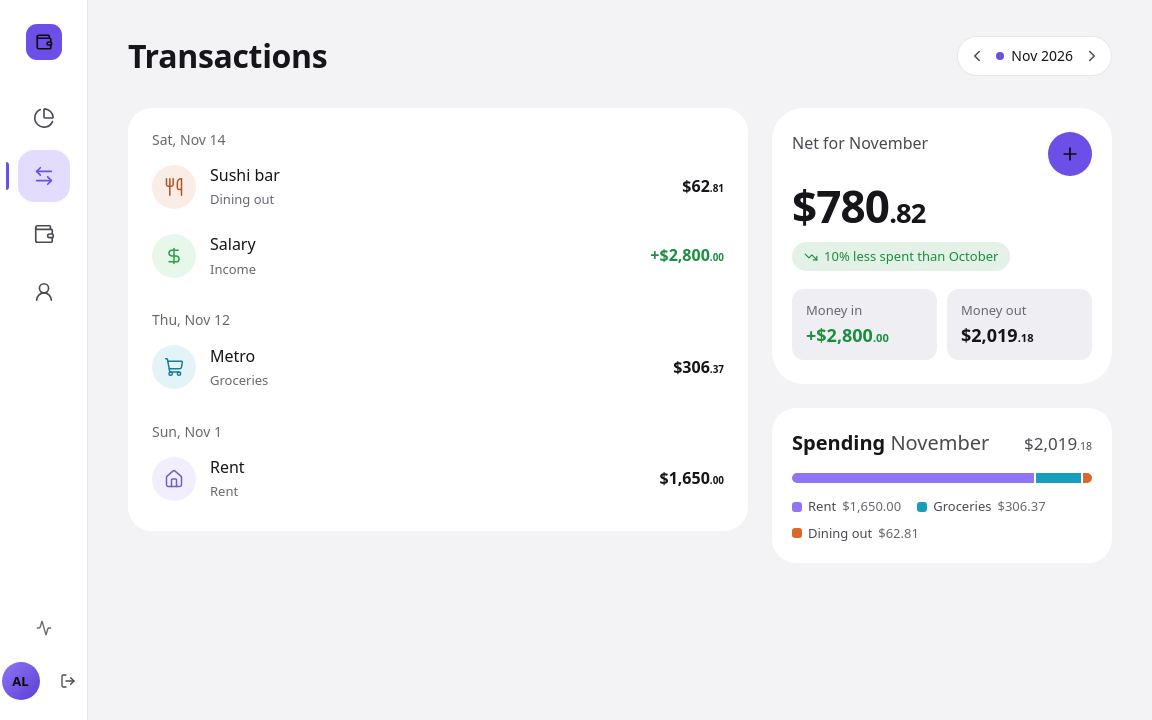
adding an expense sends a negative amount in cents, then shows the new list
expect the element "Net for November" is shown: met, box [772,108,1112,384]
Click the button named "New transaction": point(1070, 154) [1048,132,1092,176]
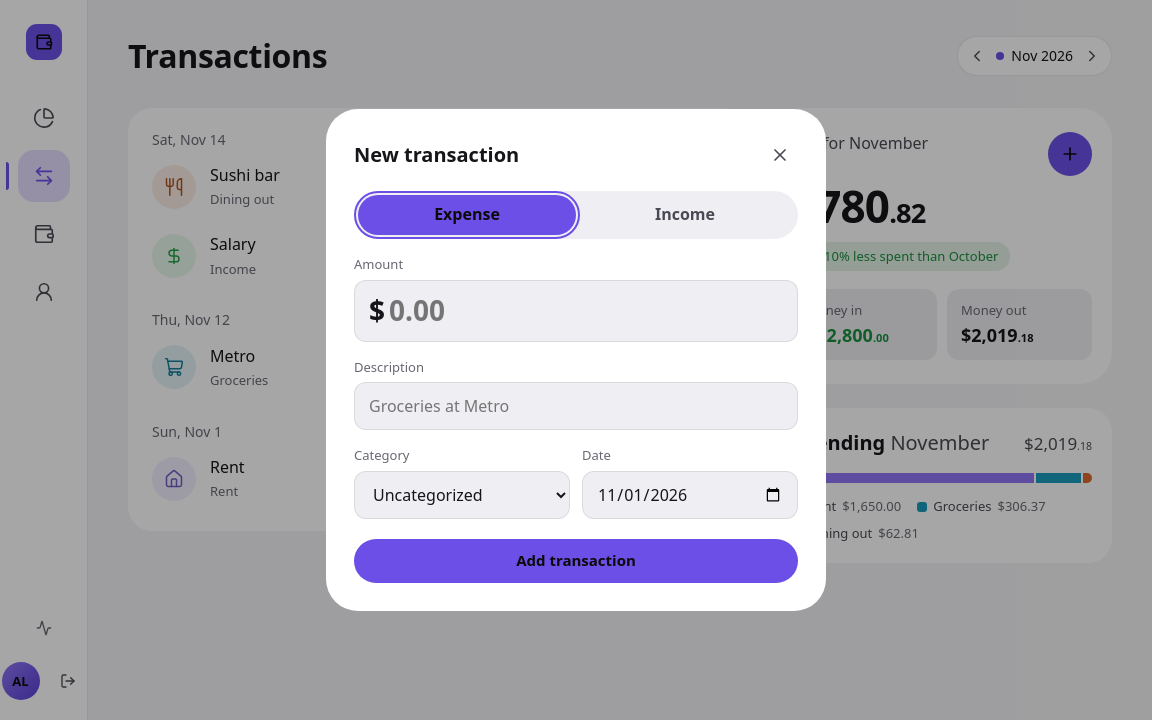
In the field labelled "Amount": point(593, 311) [389,281,797,341], type "12.5"
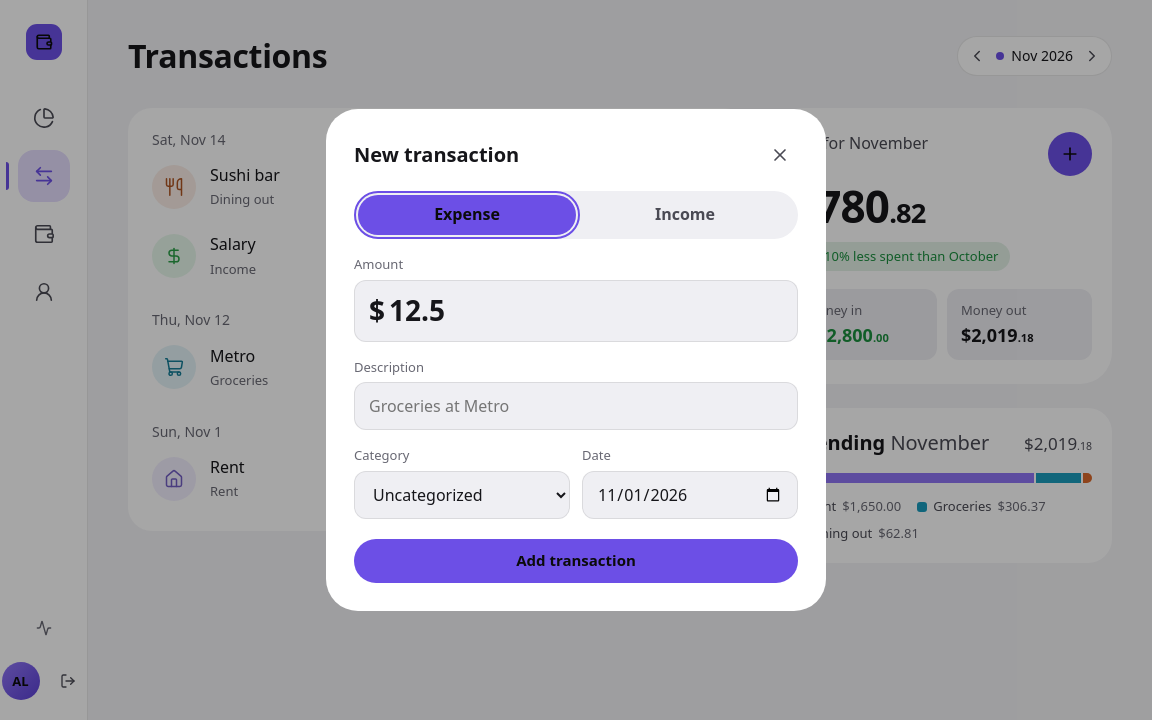
In the field labelled "Description": point(576, 406) [354,382,798,430], type "  Coffee "
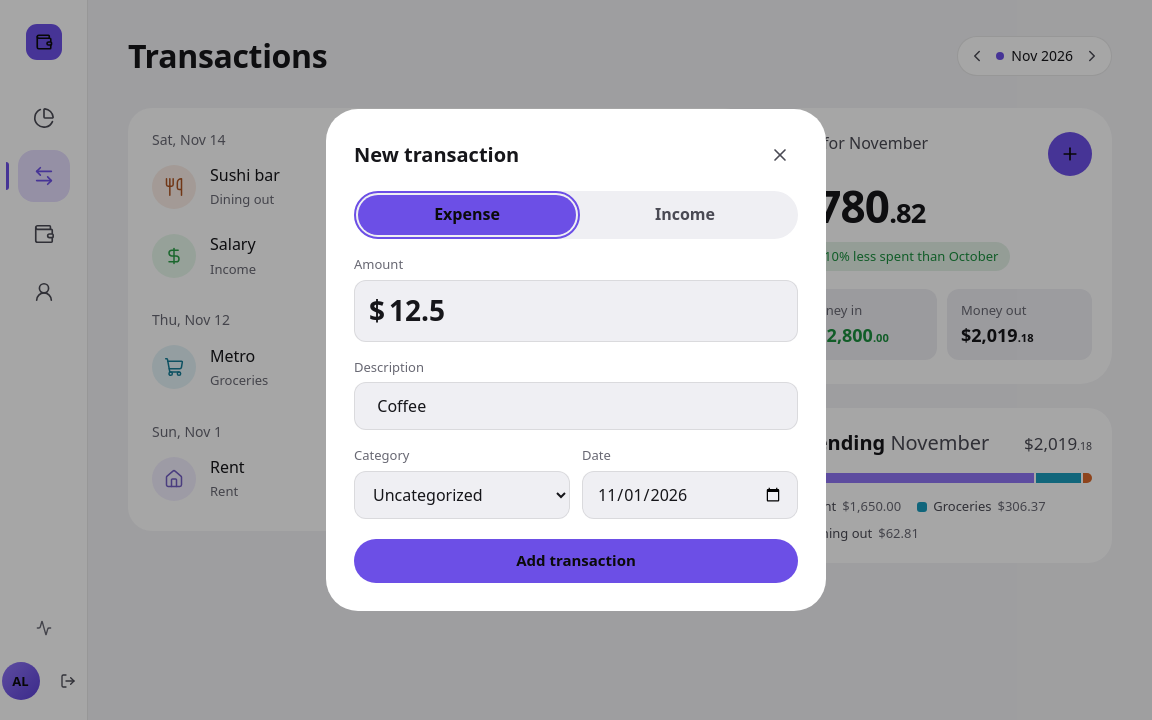
Select "Dining out" in the dropdown labelled "Category": point(462, 495) [354,471,570,519]
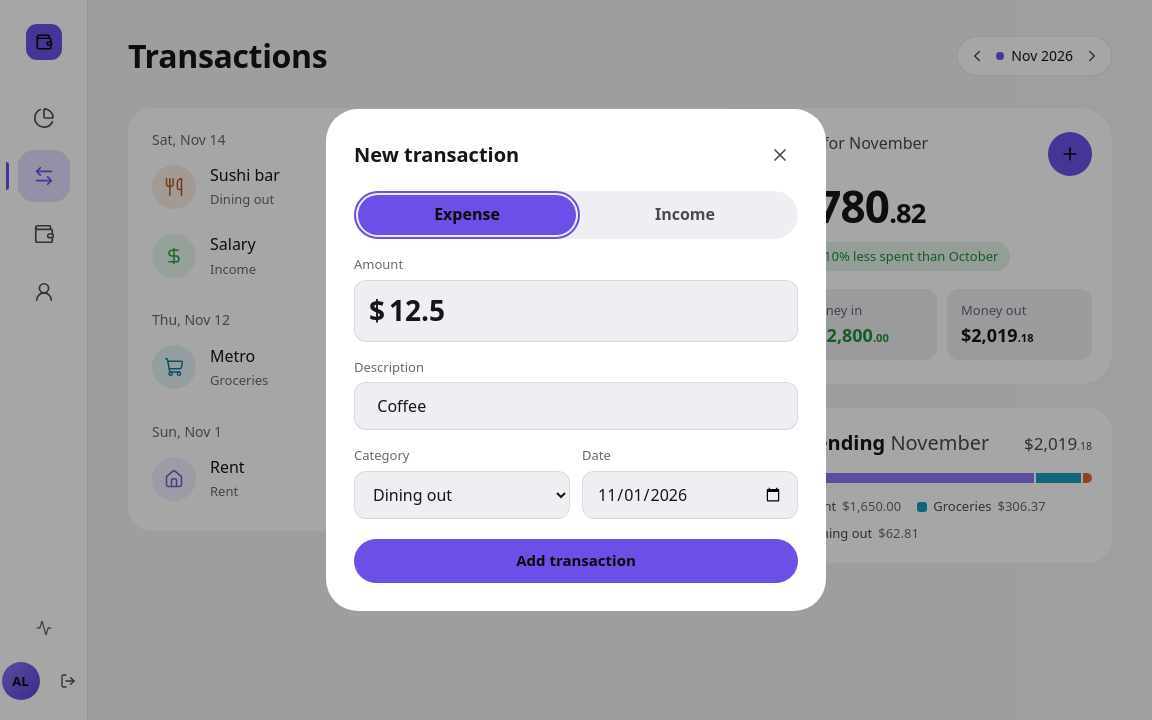
Click the button "Add transaction": point(576, 561) [354,539,798,583]
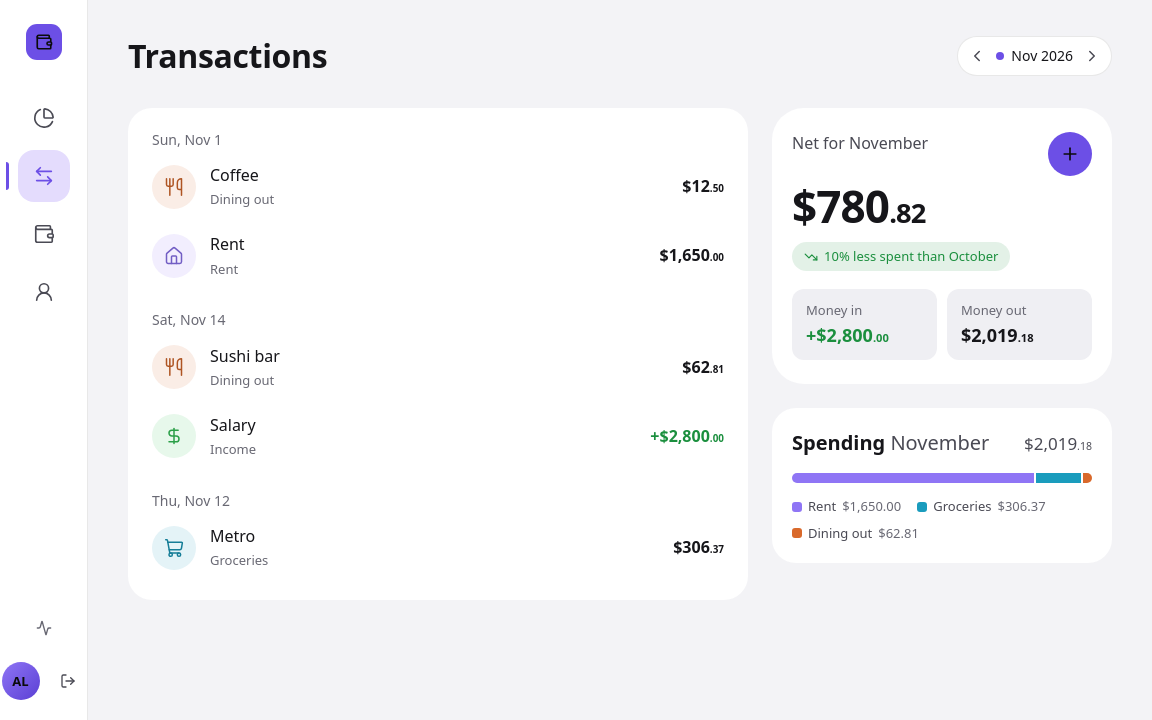
expect the text "Coffee" is shown: met, box [210,164,259,186]
expect the dialog is gone: met
